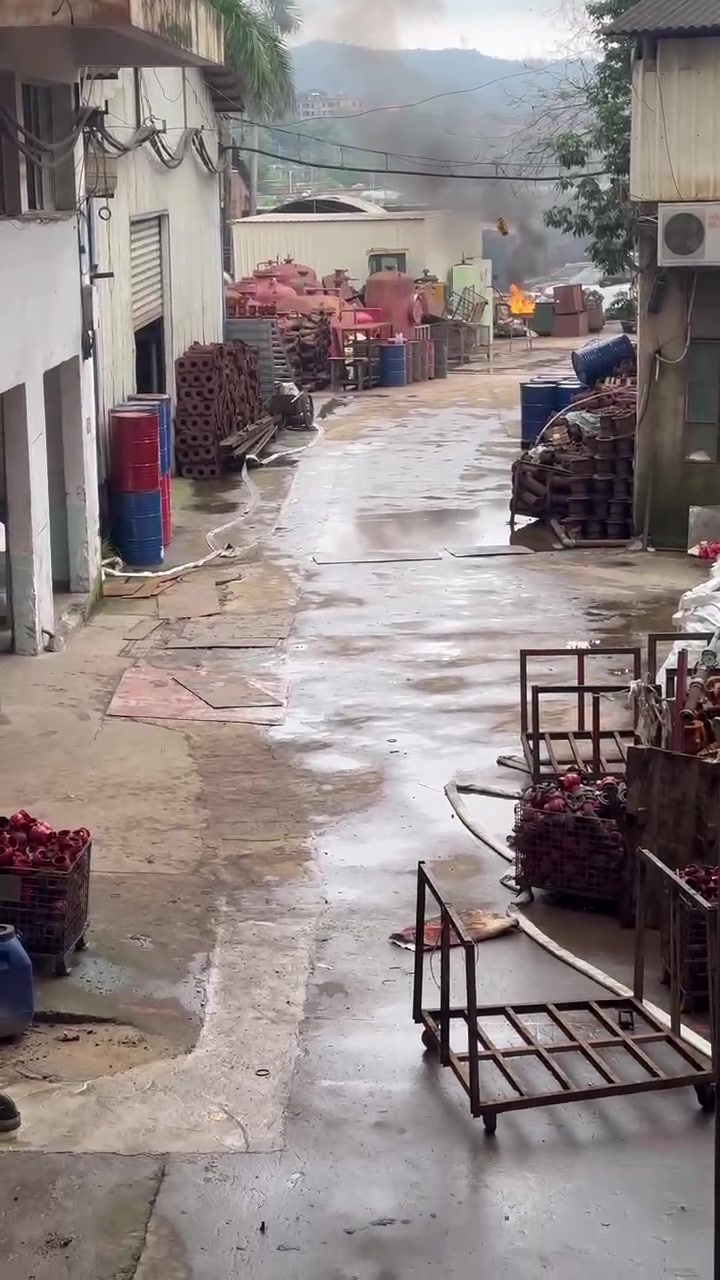fire: (508, 283, 534, 312)
